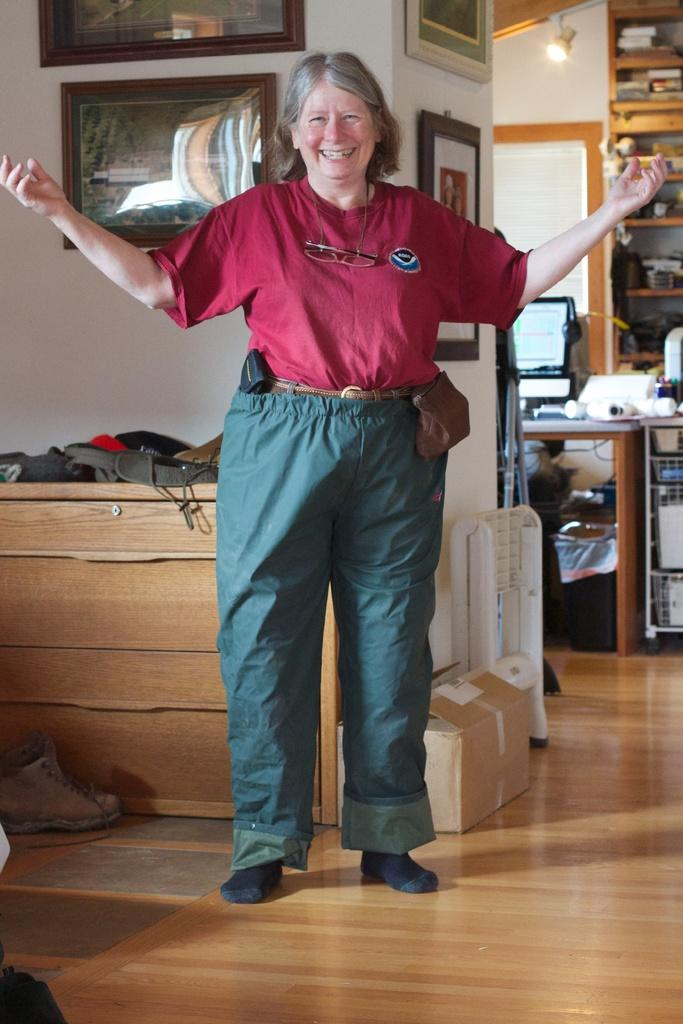Computer-monitor: (504, 293, 578, 400)
